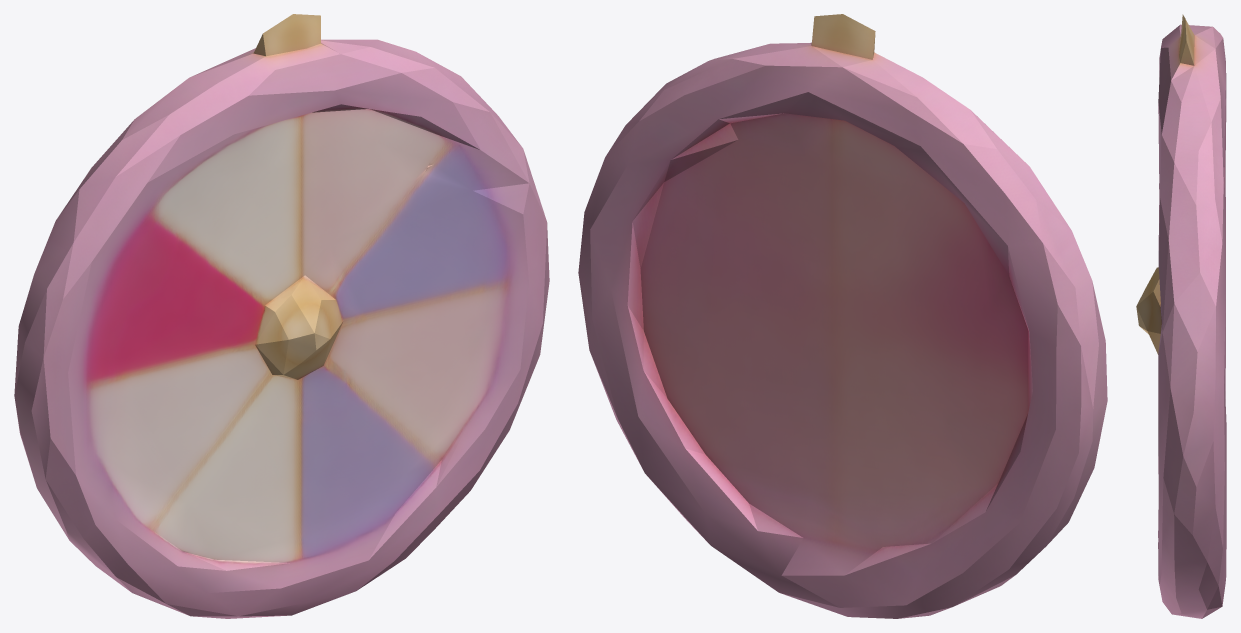
The picture shows the model from 3 angles, left to right: view 1: azimuth 30°, elevation 25°; view 2: azimuth 150°, elevation 25°; view 3: azimuth 270°, elevation 25°; orthographic projection. The views are drawn at different scales.
Visible parts, largest first — view 1: model; view 2: model; view 3: model.
Part boxes in pixels (bbox=[...]): model: bbox=[14, 14, 549, 618]; model: bbox=[578, 14, 1107, 618]; model: bbox=[1136, 14, 1226, 618].
Size of the model in its own units: 166 by 182 by 25.8.
1 material, 1 textured.
